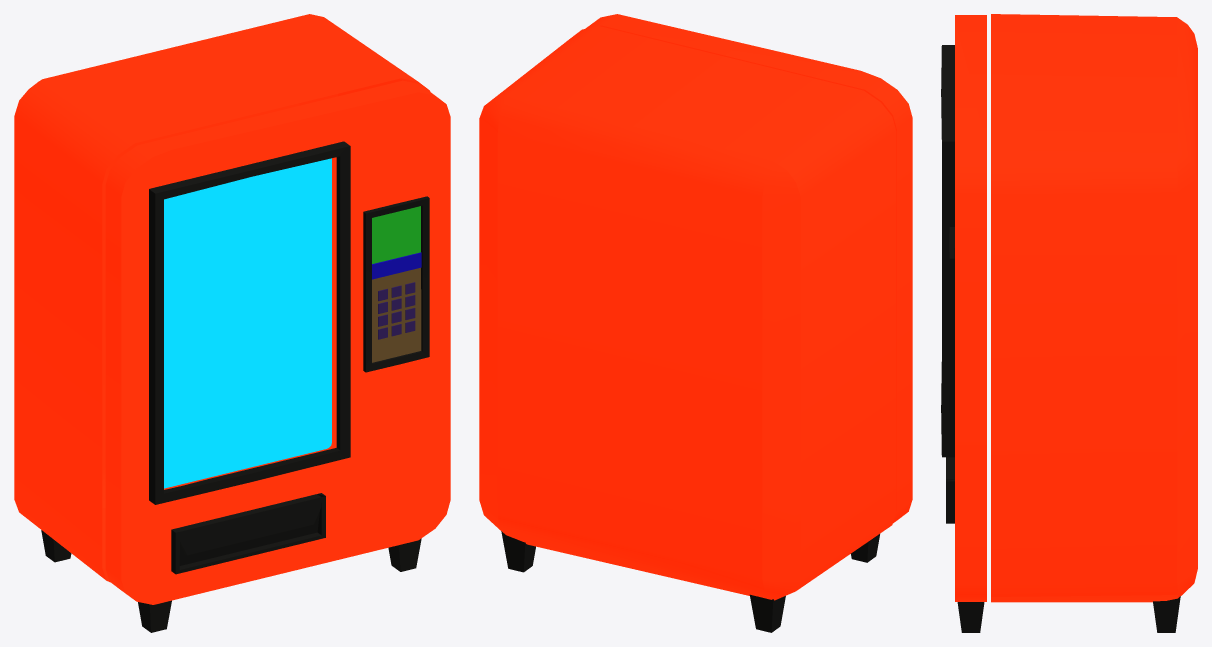
The model's file is VedingMachine_L.fbx.
3 renders of one model, left to right at view 1: azimuth 30°, elevation 25°; view 2: azimuth 150°, elevation 25°; view 3: azimuth 270°, elevation 25°, orthographic. The views are drawn at different scales.
Visible parts, largest first — view 1: Vending_M_L; view 2: Vending_M_L; view 3: Vending_M_L.
Boxes of the visible parts, bbox=[...] form: Vending_M_L: bbox=[14, 14, 450, 632]; Vending_M_L: bbox=[479, 14, 912, 632]; Vending_M_L: bbox=[941, 14, 1197, 632].
Bounding box in the file's own units: 160 × 106 × 222.
